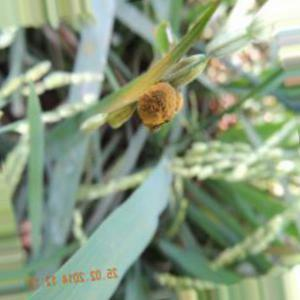Leaf_Scald: (128, 75, 186, 130)
